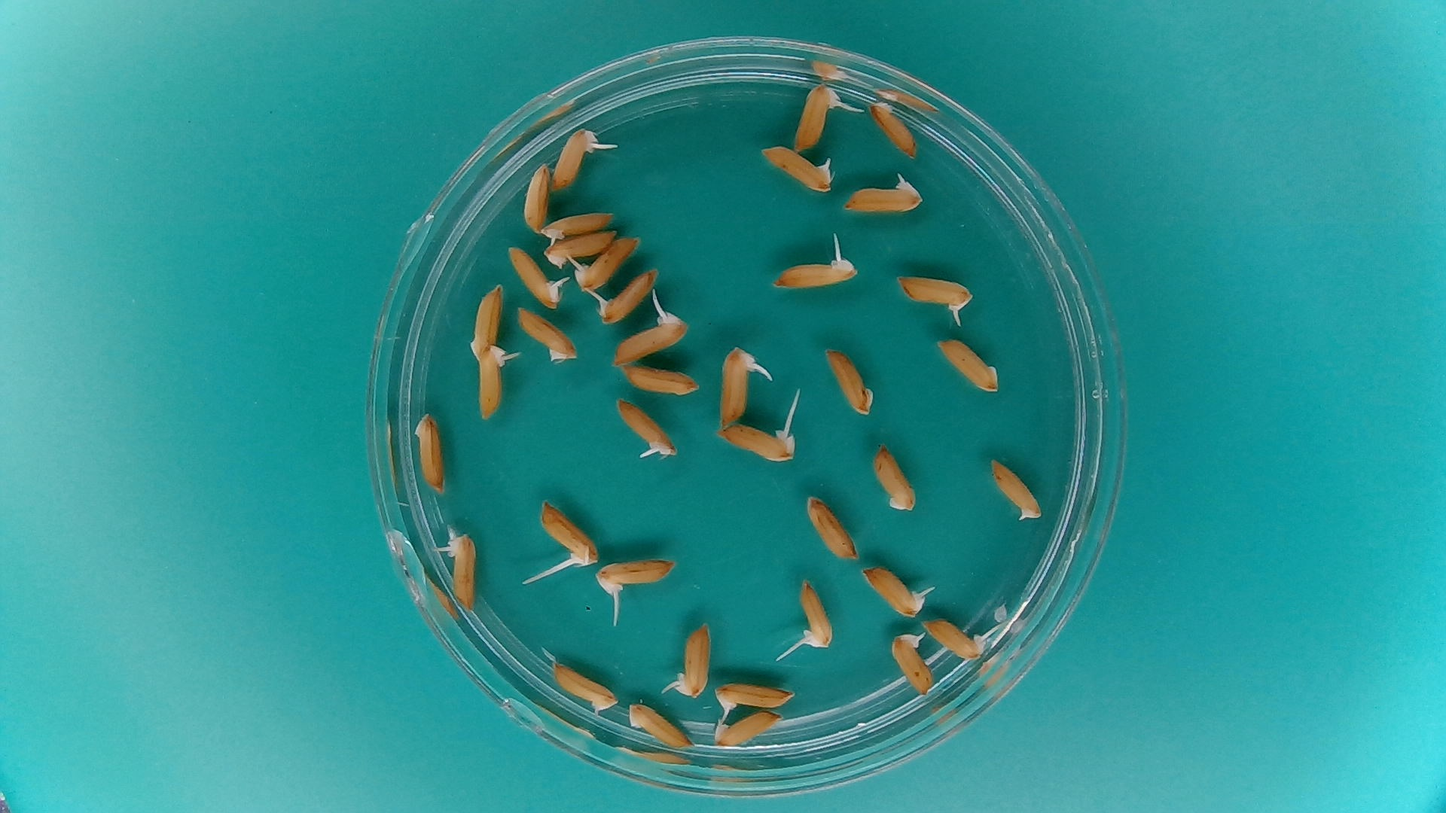no: (820, 343, 877, 419), (548, 658, 621, 714), (801, 492, 859, 562), (936, 335, 1002, 396), (514, 303, 579, 364), (624, 699, 694, 753), (871, 438, 920, 514), (468, 279, 511, 362), (866, 97, 919, 160), (618, 362, 700, 399), (413, 410, 449, 494), (542, 228, 615, 267), (715, 709, 783, 746), (521, 160, 552, 234)
yes: (715, 343, 770, 431), (613, 395, 679, 463), (567, 234, 641, 293), (857, 562, 932, 620), (505, 243, 566, 312), (612, 309, 688, 364), (758, 142, 837, 193), (840, 171, 926, 216), (597, 267, 659, 326), (987, 455, 1042, 520), (794, 82, 845, 151), (539, 502, 598, 561), (714, 421, 796, 463), (711, 678, 792, 720), (533, 211, 620, 250), (550, 125, 596, 193), (895, 275, 975, 314), (773, 255, 859, 291), (674, 623, 714, 700), (887, 629, 935, 693), (920, 613, 985, 659), (596, 558, 673, 593), (798, 575, 831, 650), (477, 348, 508, 422), (447, 531, 477, 604)
